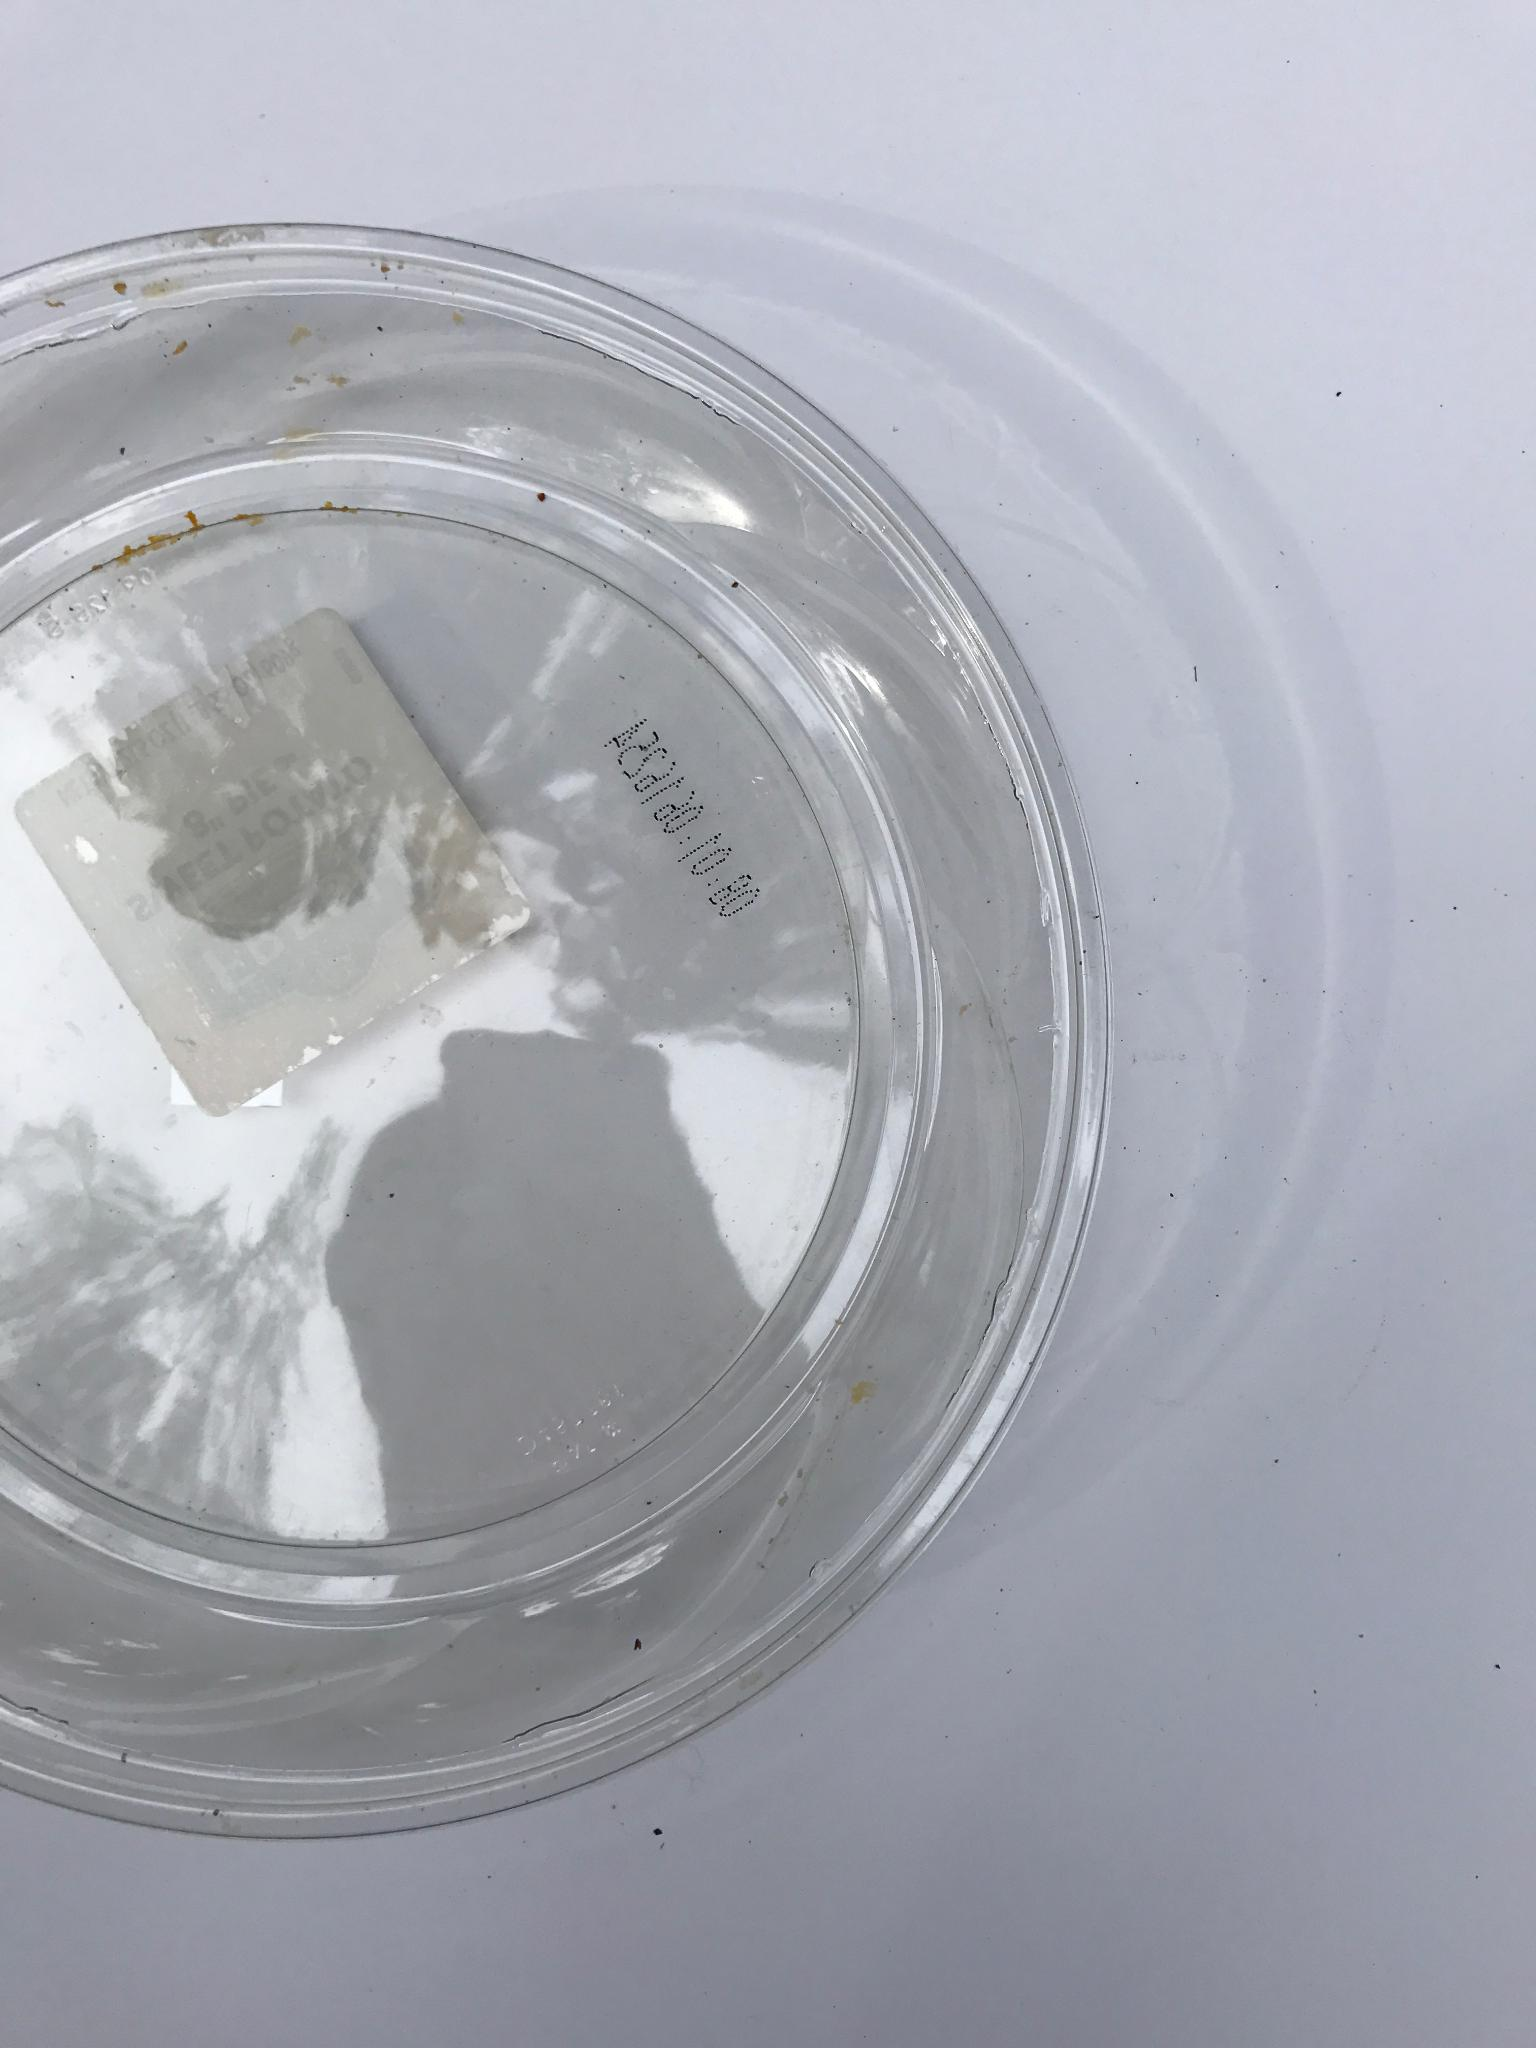Plastic: (0, 211, 1139, 1843)
